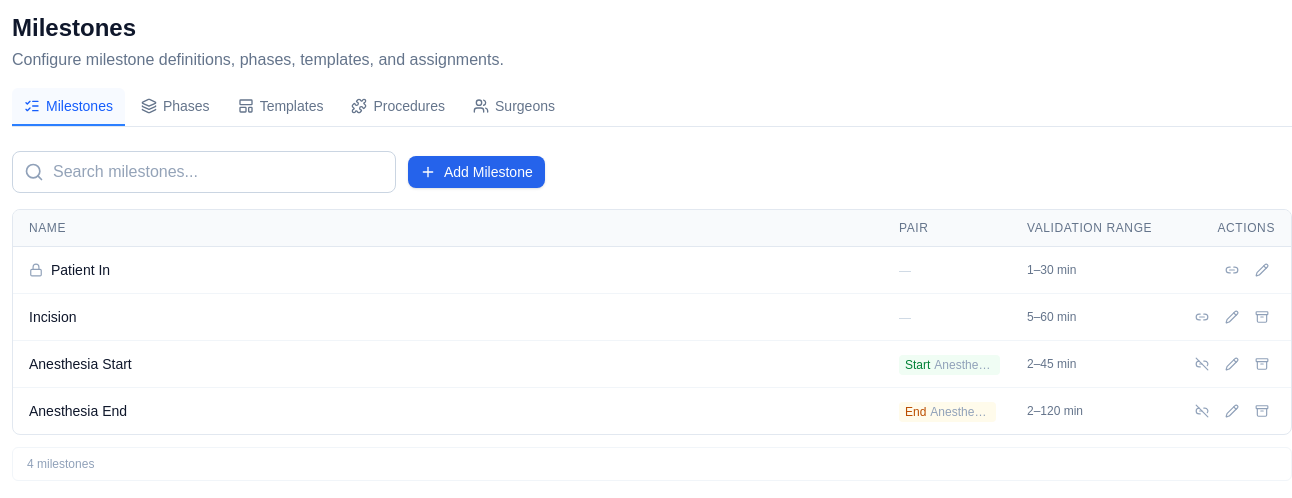
Test: MilestonesSettingsPage › Milestones tab - search › shows no-match message when search finds nothing
In the field with placeholder "Search milestones...": (204, 172) x1=12 y1=151 x2=396 y2=193, type "zzzzzz"
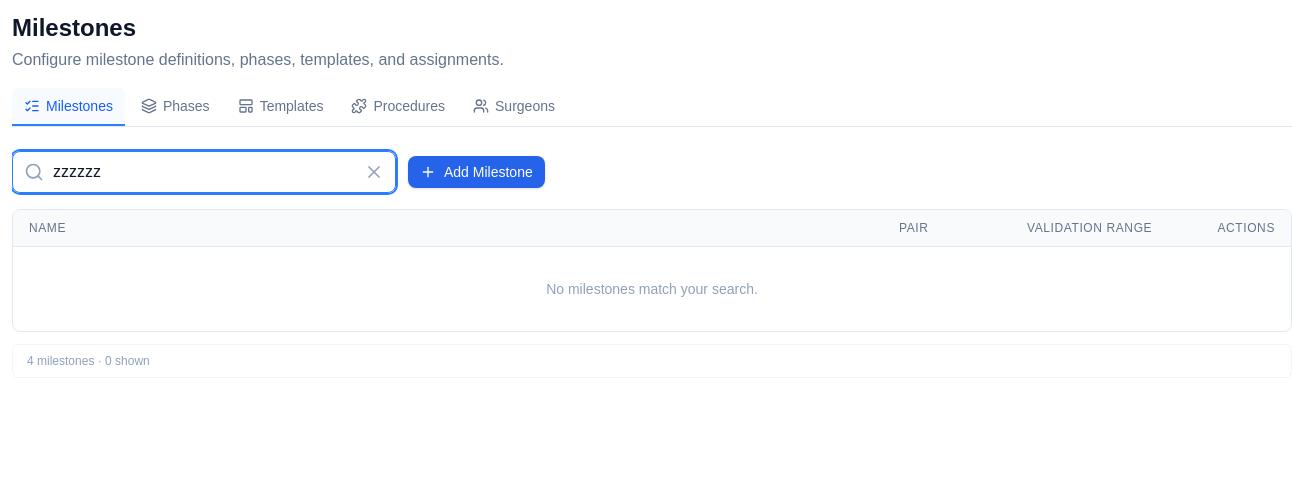
Result: the text "No milestones match your search." is shown at x1=546 y1=281 x2=758 y2=297
